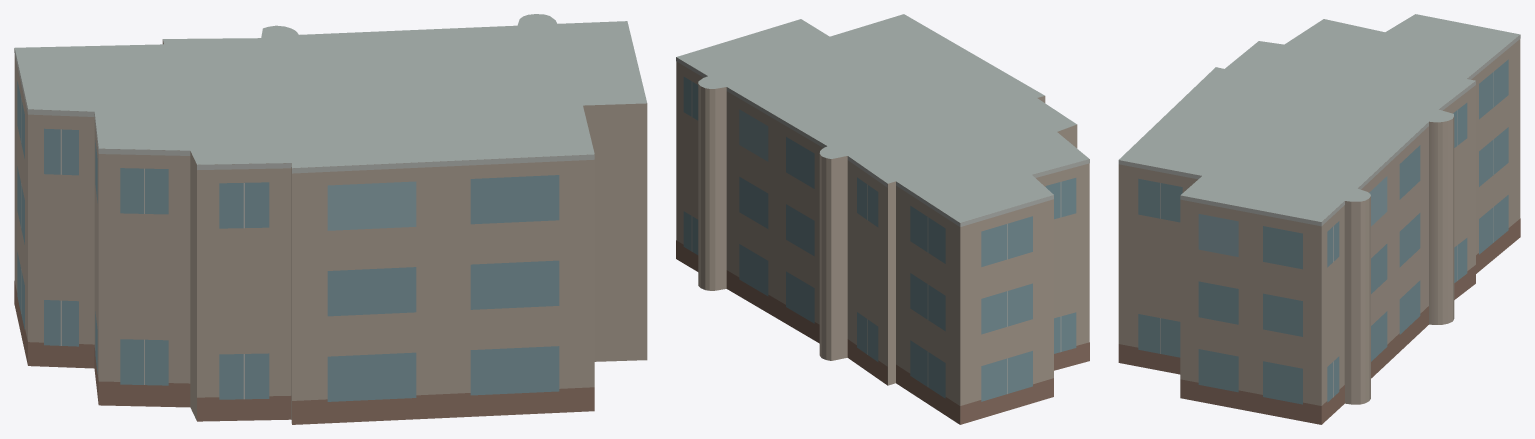
File: survey-upis-32973139.glb
3 views of the same model, side by side, from view 1: azimuth 30°, elevation 25°; view 2: azimuth 150°, elevation 25°; view 3: azimuth 270°, elevation 25° (orthographic). The views are drawn at different scales.
Parts seen in each view (by area): view 1: survey-upis-32973139.tmp; view 2: survey-upis-32973139.tmp; view 3: survey-upis-32973139.tmp.
Boxes of the visible parts, left/top/right/bottom form: survey-upis-32973139.tmp: left=14, top=14, right=647, bottom=424; survey-upis-32973139.tmp: left=676, top=14, right=1089, bottom=424; survey-upis-32973139.tmp: left=1118, top=14, right=1520, bottom=424.
Bounding box in the file's own units: 25.76 × 11.7 × 21.03.
